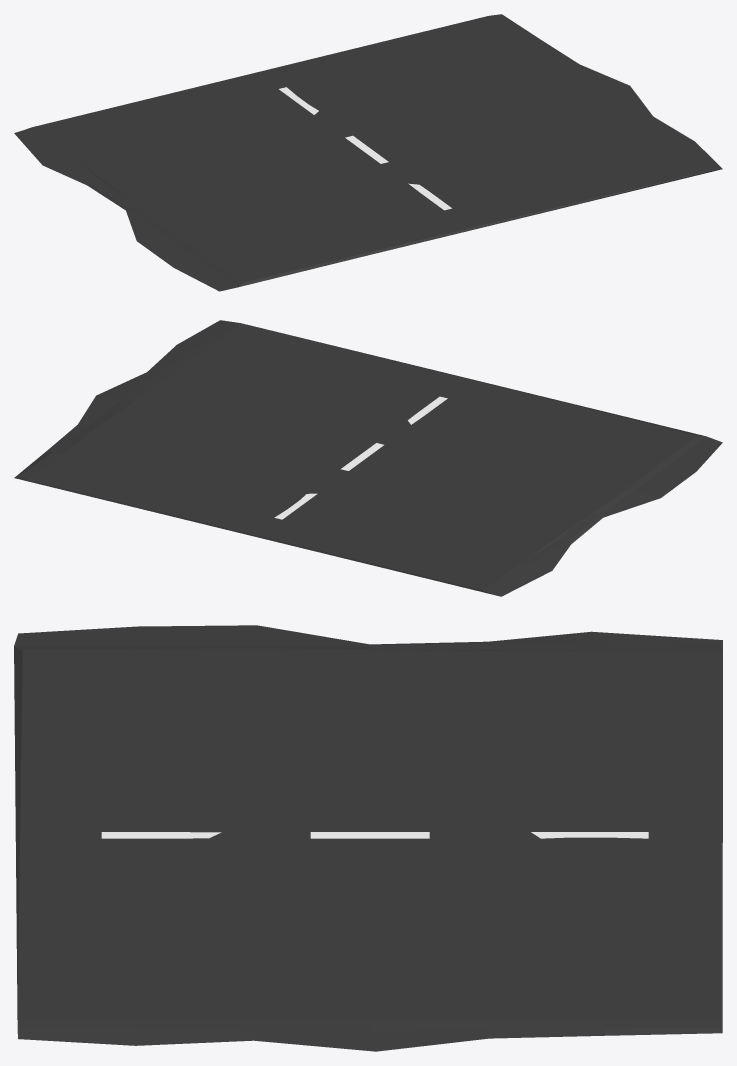
Rendered from Estrada7.fbx.
The picture shows the model from 3 angles, top to bottom: view 1: azimuth 30°, elevation 25°; view 2: azimuth 150°, elevation 25°; view 3: azimuth 270°, elevation 25°; orthographic projection. The views are drawn at different scales.
Visible parts, largest first — view 1: Cube.001; view 2: Cube.001; view 3: Cube.001.
Boxes of the visible parts, left/top/right/bottom form: Cube.001: left=14, top=14, right=722, bottom=291; Cube.001: left=14, top=320, right=722, bottom=596; Cube.001: left=14, top=625, right=722, bottom=1051.
Size of the model in its own units: 6003 by 29.52 by 4222.
